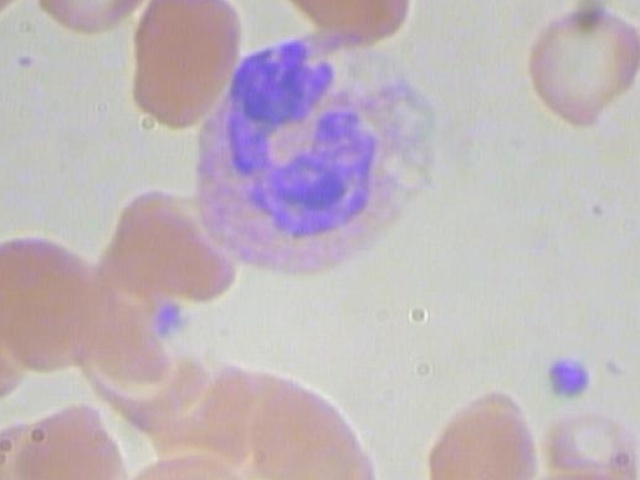Platelets: (539, 350, 603, 402), (148, 293, 191, 340)
RBC: (119, 0, 250, 129), (518, 0, 640, 137), (245, 381, 382, 480), (417, 381, 546, 480), (0, 233, 95, 354), (10, 393, 129, 480), (530, 408, 640, 480), (22, 0, 173, 44), (278, 0, 422, 41), (0, 0, 32, 35)
WBC: (189, 22, 469, 284)
